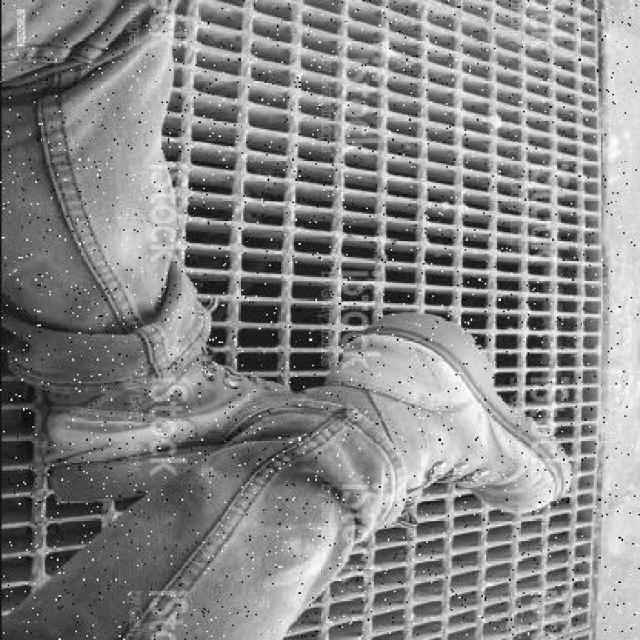shoes: (324, 318, 567, 513), (42, 357, 316, 501)
